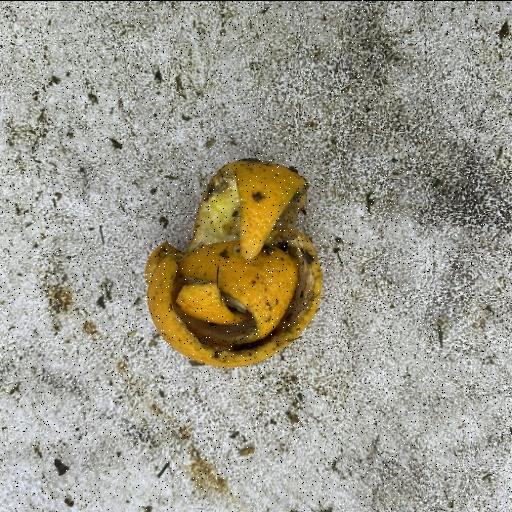Waste: (142, 158, 324, 368)
